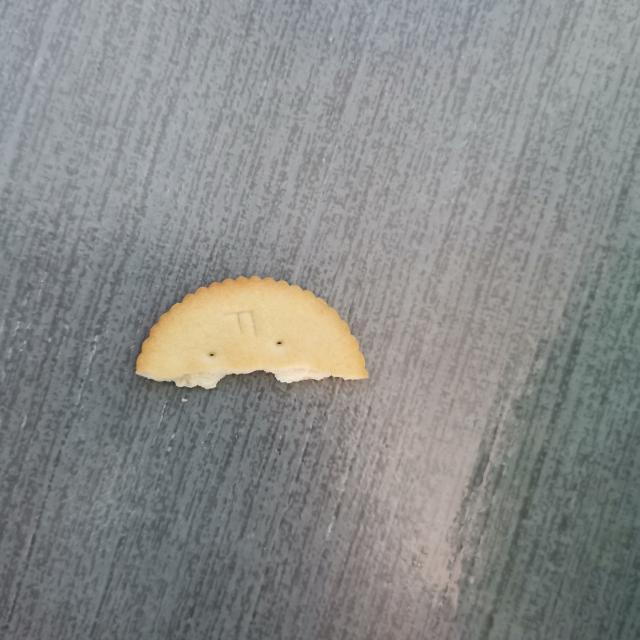Broken: (134, 274, 369, 390)
